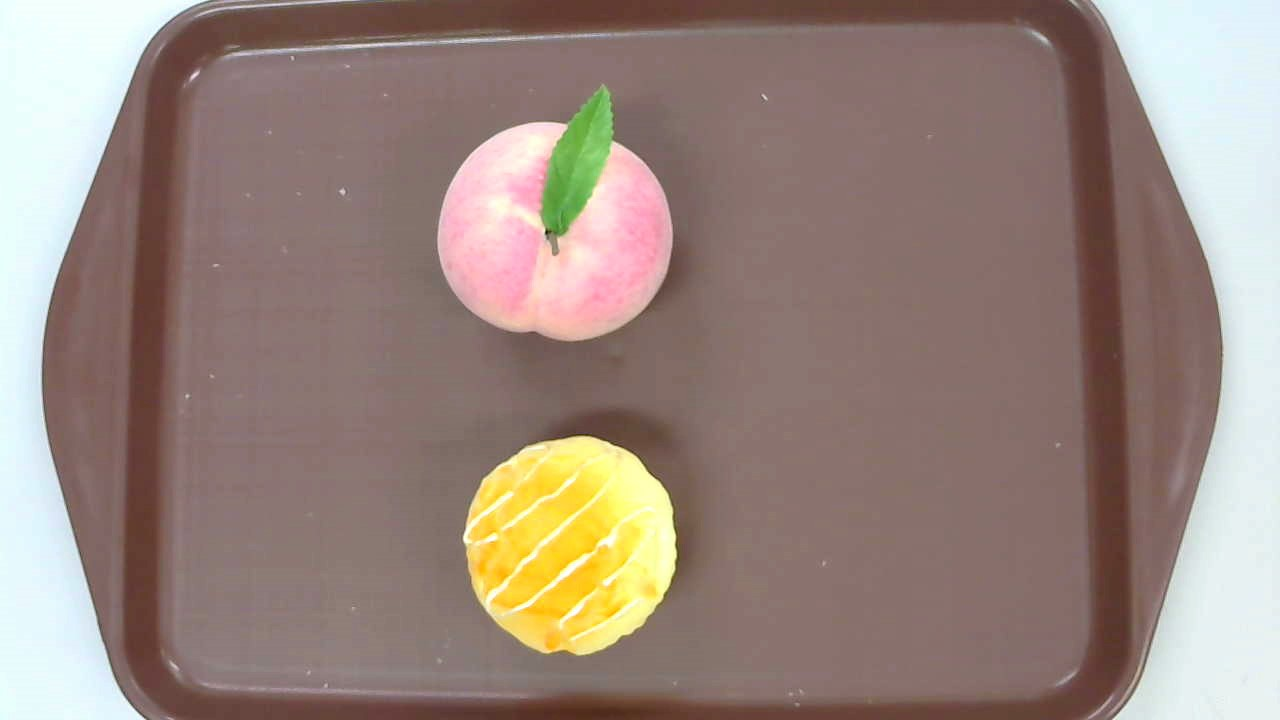cupcake: (463, 433, 678, 658)
peach: (436, 82, 673, 342)
